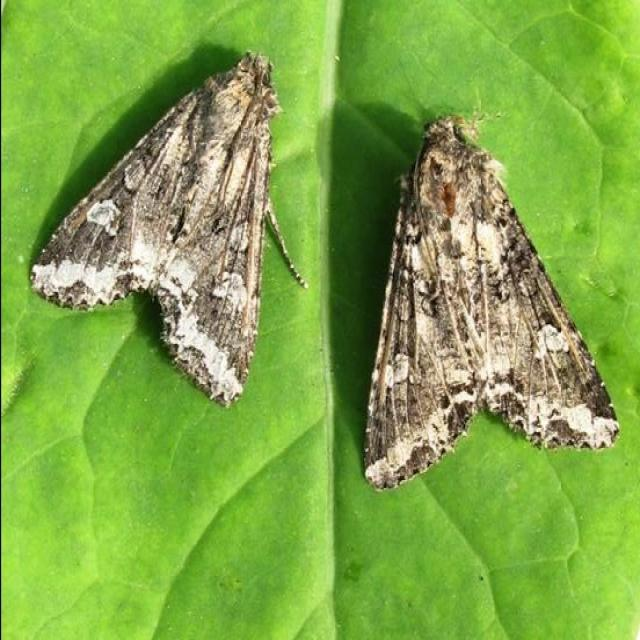army worm: (354, 106, 620, 499), (33, 40, 291, 418)
